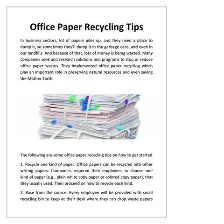book: (34, 88, 144, 143)
